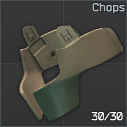Crye Precision AirFrame Chops: (0, 0, 127, 127)
